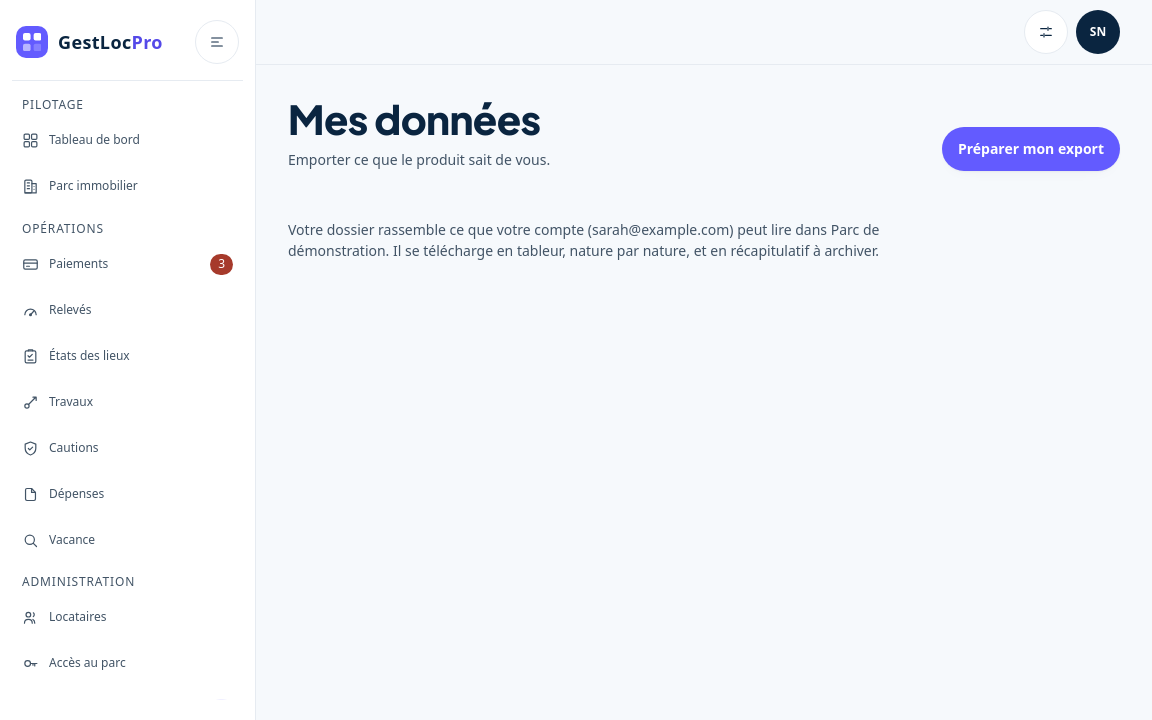
Test: l’écran « Mes données » › dit que la démonstration ne tient aucun dossier
This screenshot has width=1152, height=720.
What coordinates should you click on to do the following:
click the button "Préparer mon export"
I would click on:
 (1031, 149)
Its box is [942,127,1120,171].
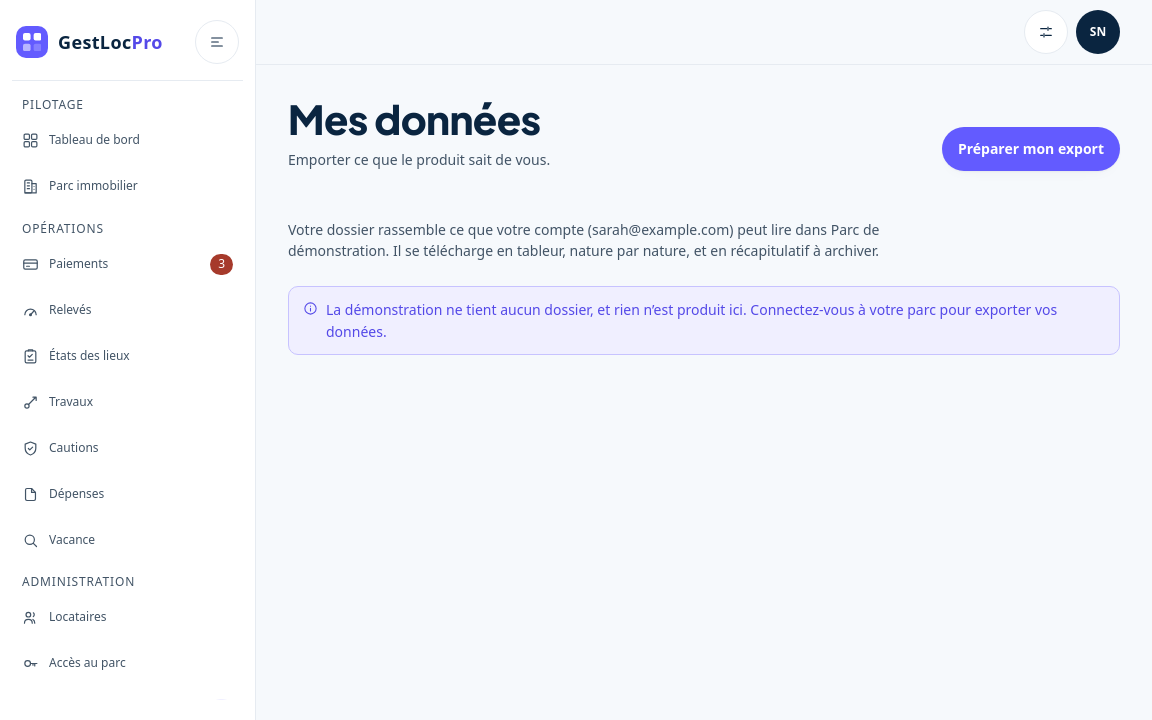
Expected: the text "La démonstration ne tient aucun dossier" is shown, [326,300,1057,341]
